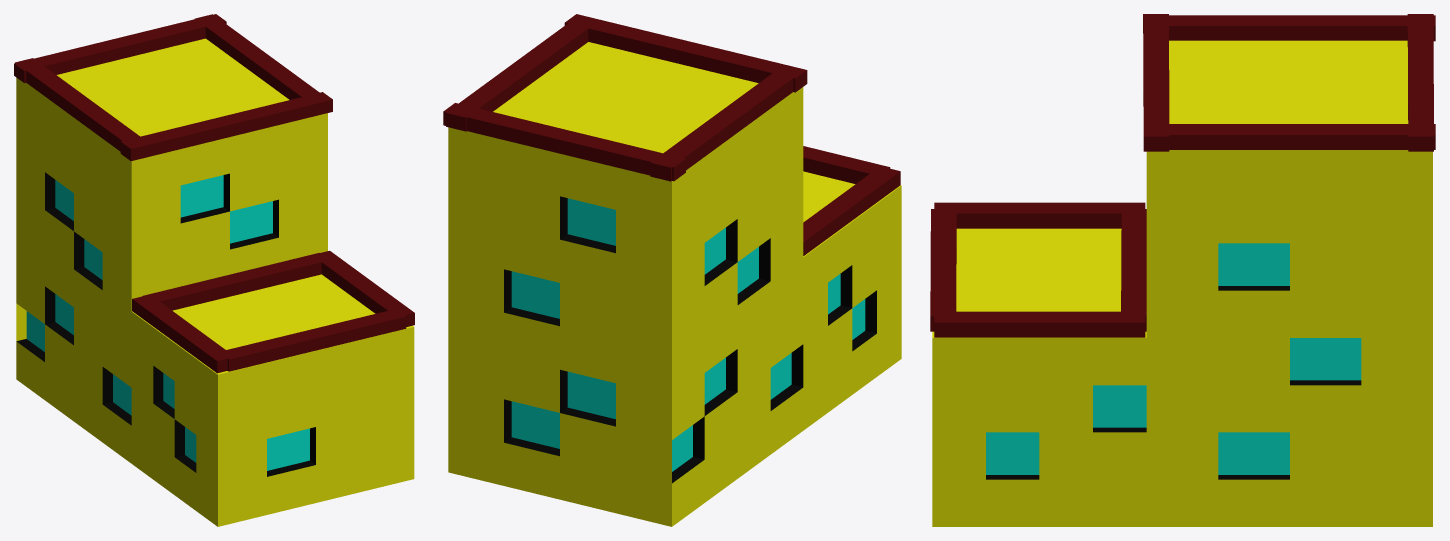
The model's file is house 11 (yellow).fbx.
The picture shows the model from 3 angles, left to right: view 1: azimuth 30°, elevation 25°; view 2: azimuth 150°, elevation 25°; view 3: azimuth 270°, elevation 25°; orthographic projection. The views are drawn at different scales.
Visible parts, largest first — view 1: Cube, Cube.006, Cube.007, Cube.005, Cube.008, Cube.003, Cube.004, Cube.001, Cube.002; view 2: Cube, Cube.005, Cube.006, Cube.003, Cube.004, Cube.001, Cube.007; view 3: Cube, Cube.003, Cube.004, Cube.002, Cube.001, Cube.006, Cube.005, Cube.007, Cube.008.
Boxes of the visible parts, box(x1,y1,x2,y2) form: Cube: box(16, 38, 414, 526); Cube.006: box(120, 92, 332, 161); Cube.007: box(219, 311, 406, 371); Cube.005: box(14, 14, 226, 83); Cube.008: box(142, 253, 321, 310); Cube.003: box(195, 14, 328, 103); Cube.004: box(15, 58, 139, 151); Cube.001: box(132, 296, 227, 373); Cube.002: box(312, 250, 414, 326); Cube: box(448, 42, 901, 526); Cube.005: box(443, 103, 685, 181); Cube.006: box(564, 14, 807, 92); Cube.003: box(446, 15, 598, 131); Cube.004: box(650, 73, 793, 181); Cube.001: box(803, 168, 900, 255); Cube.007: box(803, 146, 890, 183); Cube: box(932, 40, 1432, 526); Cube.003: box(1145, 124, 1435, 149); Cube.004: box(1169, 15, 1435, 41); Cube.002: box(934, 311, 1145, 337); Cube.001: box(934, 202, 1145, 228); Cube.006: box(1143, 14, 1169, 151); Cube.005: box(1407, 14, 1433, 151); Cube.007: box(930, 209, 956, 331); Cube.008: box(1121, 209, 1146, 331).
Size of what is drawn, in the model's own units: 2056 by 3070 by 3580.
